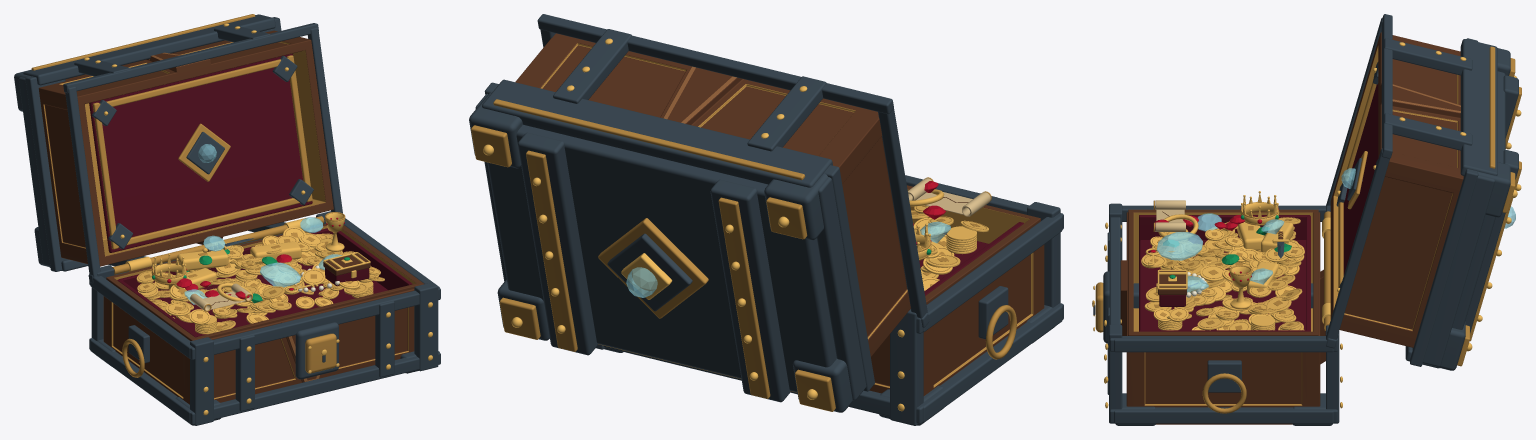
The model's file is HeavyTreasureChest.glb.
3 views of the same model, side by side, from view 1: azimuth 30°, elevation 25°; view 2: azimuth 150°, elevation 25°; view 3: azimuth 270°, elevation 25° (orthographic). The views are drawn at different scales.
Visible parts, largest first — view 1: Lid_inner_panel, Body_HeavyDetails_Chest_ForgedSteel, Lid_OriginalSilhouette, Lid_HeavyDetails_Chest_ForgedSteel, Body_OriginalSilhouette, Treasure_Treasure_Gold, Lid_HeavyDetails_Chest_AntiqueGold, RoofArmor_Heavy_Chest_ForgedSteel, Treasure_Chest_AntiqueGold, Interior_floor, Decor_Heavy_Treasure_Gold, Treasure_Diamond_Ice (+10 smaller); view 2: RoofArmor_Heavy_Chest_ForgedSteel, Lid_OriginalSilhouette, RoofArmor_Heavy_Chest_AntiqueGold, Lid_HeavyDetails_Chest_ForgedSteel, Body_HeavyDetails_Chest_ForgedSteel, Body_OriginalSilhouette, Treasure_Treasure_Gold, RoofArmor_Heavy_Treasure_Gold, Decor_Heavy_Parchment, Body_HeavyDetails_Chest_AntiqueGold, RoofArmor_Heavy_Diamond_Ice, Treasure_Chest_AntiqueGold (+1 smaller); view 3: Lid_OriginalSilhouette, Body_OriginalSilhouette, Body_HeavyDetails_Chest_ForgedSteel, RoofArmor_Heavy_Chest_ForgedSteel, Treasure_Treasure_Gold, Lid_HeavyDetails_Chest_ForgedSteel, Treasure_Chest_AntiqueGold, Interior_floor, Lid_inner_panel, RoofArmor_Heavy_Chest_AntiqueGold, Treasure_Diamond_Ice, Decor_Heavy_Treasure_Gold (+7 smaller).
Part boxes in pixels (x1,y1,x2,y2): Lid_inner_panel: (89, 53, 312, 252); Body_HeavyDetails_Chest_ForgedSteel: (89, 211, 440, 425); Lid_OriginalSilhouette: (38, 30, 333, 266); Lid_HeavyDetails_Chest_ForgedSteel: (25, 17, 342, 283); Body_OriginalSilhouette: (103, 224, 423, 404); Treasure_Treasure_Gold: (136, 227, 384, 334); Lid_HeavyDetails_Chest_AntiqueGold: (92, 55, 312, 249); RoofArmor_Heavy_Chest_ForgedSteel: (14, 14, 275, 271); Treasure_Chest_AntiqueGold: (138, 228, 383, 332); Interior_floor: (155, 262, 387, 336); Decor_Heavy_Treasure_Gold: (151, 213, 370, 293); Treasure_Diamond_Ice: (184, 217, 342, 304); RoofArmor_Heavy_Chest_ForgedSteel: (469, 79, 866, 412); Lid_OriginalSilhouette: (515, 33, 910, 356); RoofArmor_Heavy_Chest_AntiqueGold: (471, 99, 835, 411); Lid_HeavyDetails_Chest_ForgedSteel: (484, 14, 929, 391); Body_HeavyDetails_Chest_ForgedSteel: (596, 175, 1063, 425); Body_OriginalSilhouette: (869, 185, 1044, 395); Treasure_Treasure_Gold: (909, 189, 988, 290); RoofArmor_Heavy_Treasure_Gold: (483, 144, 817, 399); Decor_Heavy_Parchment: (908, 178, 990, 216); Body_HeavyDetails_Chest_AntiqueGold: (985, 305, 1016, 359); RoofArmor_Heavy_Diamond_Ice: (626, 267, 657, 297); Treasure_Chest_AntiqueGold: (911, 205, 986, 286); Lid_OriginalSilhouette: (1330, 32, 1463, 347); Body_OriginalSilhouette: (1120, 209, 1325, 424); Body_HeavyDetails_Chest_ForgedSteel: (1093, 203, 1339, 425); RoofArmor_Heavy_Chest_ForgedSteel: (1405, 39, 1518, 370); Treasure_Treasure_Gold: (1141, 214, 1304, 330); Lid_HeavyDetails_Chest_ForgedSteel: (1325, 14, 1478, 366); Treasure_Chest_AntiqueGold: (1144, 217, 1303, 330); Interior_floor: (1139, 240, 1306, 330); Lid_inner_panel: (1343, 83, 1378, 275); RoofArmor_Heavy_Chest_AntiqueGold: (1457, 46, 1521, 366); Treasure_Diamond_Ice: (1157, 213, 1284, 293); Decor_Heavy_Treasure_Gold: (1145, 191, 1288, 309).
Bounding box in the file's own units: 2.52 × 2.3 × 3.19.
